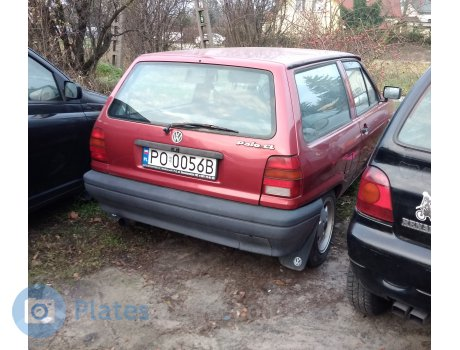number_plate: (142, 146, 217, 179)
